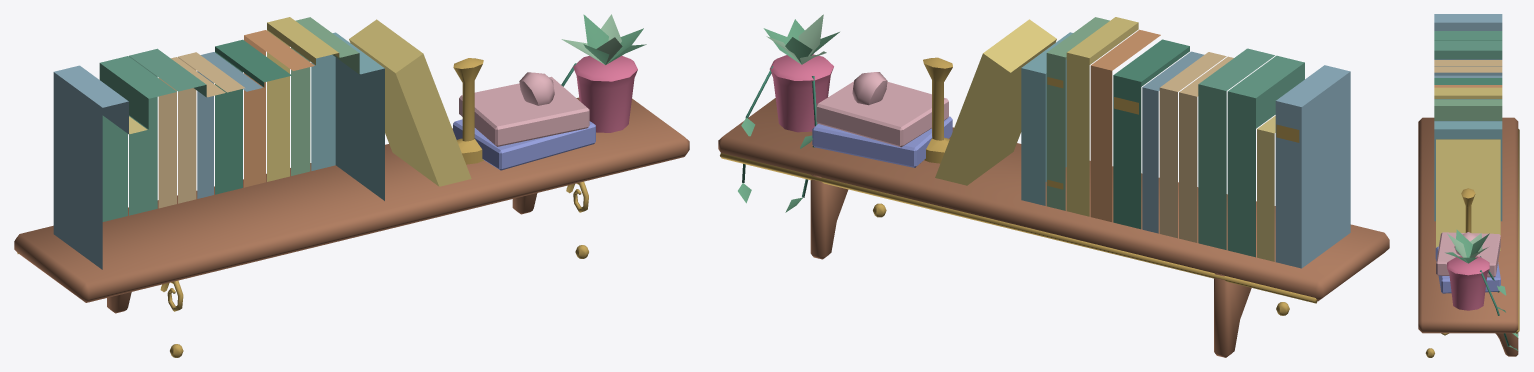
File: wall_shelf_books.glb
3 views of the same model, side by side, from view 1: azimuth 30°, elevation 25°; view 2: azimuth 150°, elevation 25°; view 3: azimuth 270°, elevation 25° (orthographic). The views are drawn at different scales.
Parts seen in each view (by area): view 1: wall_shelf_books; view 2: wall_shelf_books; view 3: wall_shelf_books.
Part boxes in pixels (left/top/right/bottom): wall_shelf_books: left=14, top=14, right=689, bottom=357; wall_shelf_books: left=718, top=14, right=1389, bottom=357; wall_shelf_books: left=1418, top=14, right=1519, bottom=357.
Size of what is drawn, in the model's own units: 1.2 by 0.5 by 0.25.
